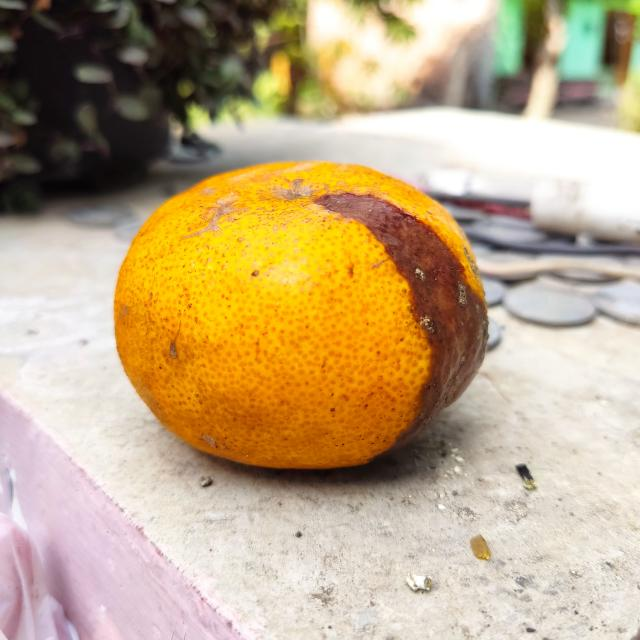orange: (113, 159, 490, 482)
